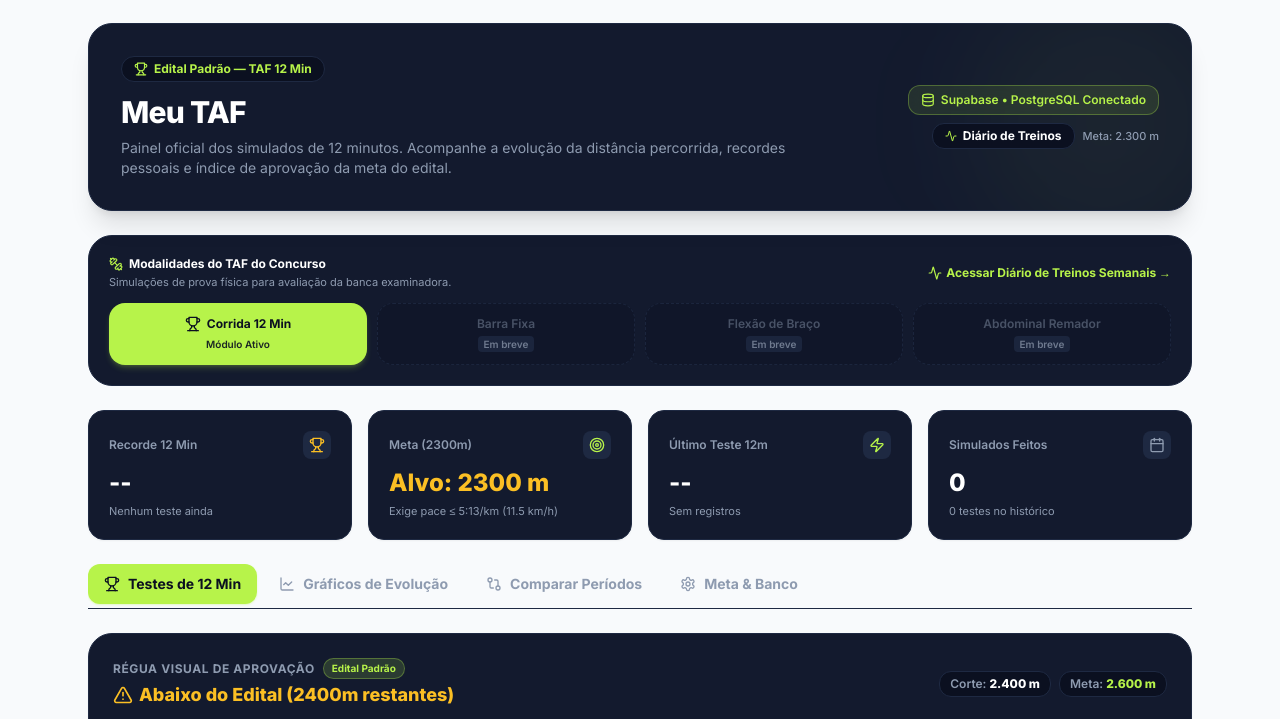
Test case: MeuTafPage - Fase F (Comparador de Períodos & Configuração de Meta / Backup) › Configuração de Meta & Central de Backup › permite disparar a exportação de Backup JSON e planilhas CSV
Click the button "Meta & Banco".
click(739, 584)  # box [664,564,814,604]
(page scrolled)
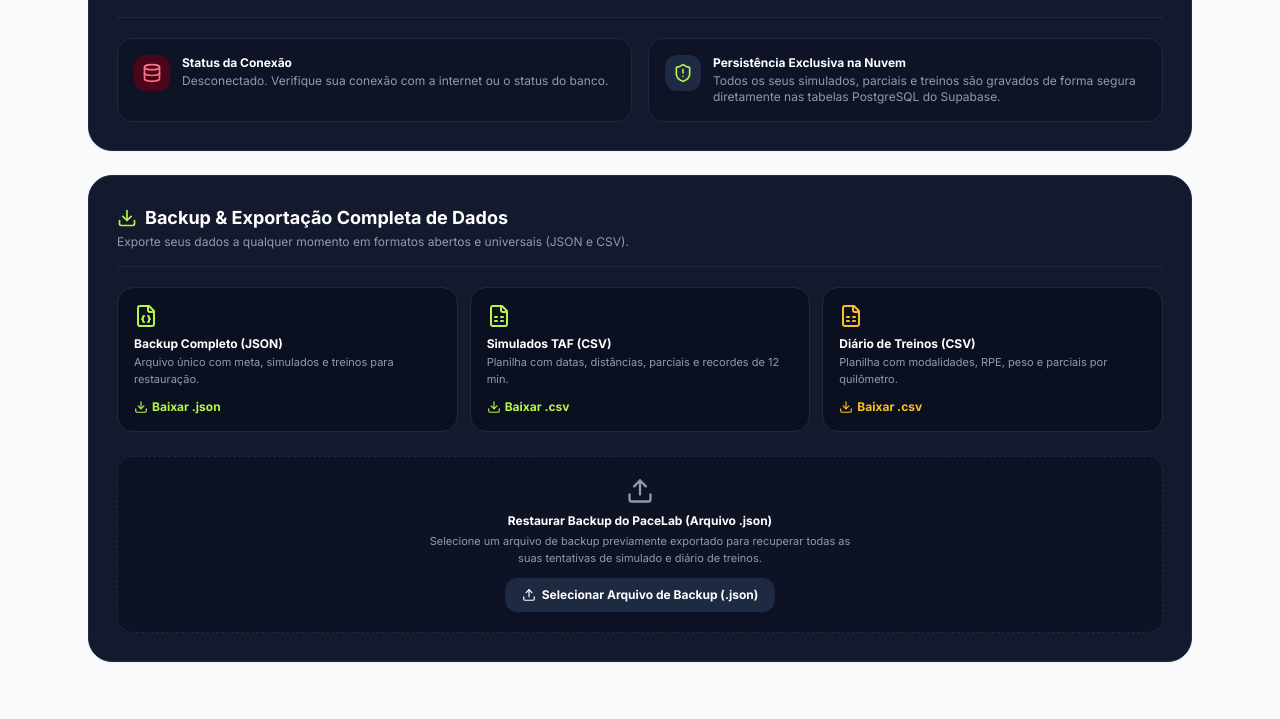
Click the button "Backup Completo (JSON)".
click(287, 360)  # box [117,287,458,432]
(page scrolled)
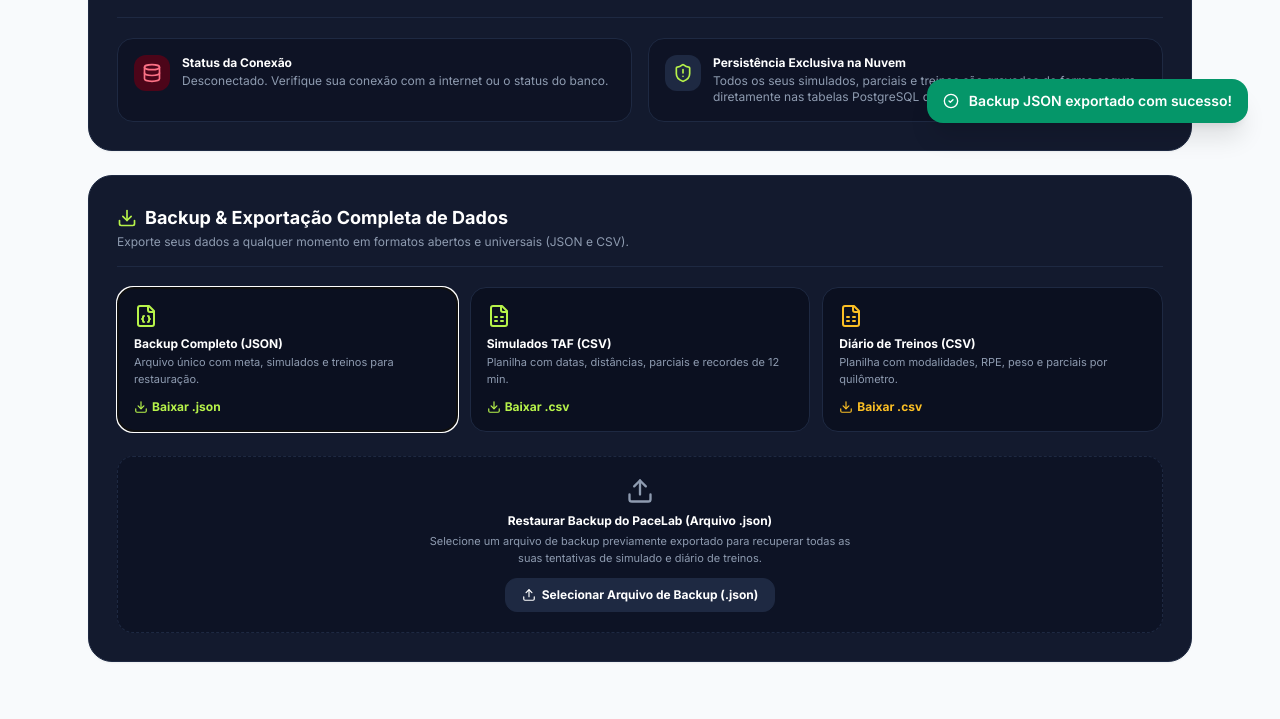
Expected: the element with test id "toast-notification" shows "Backup JSON exportado com sucesso", [969,92,1232,109]
Click the button "Simulados TAF (CSV)".
click(640, 360)  # box [470,287,810,432]
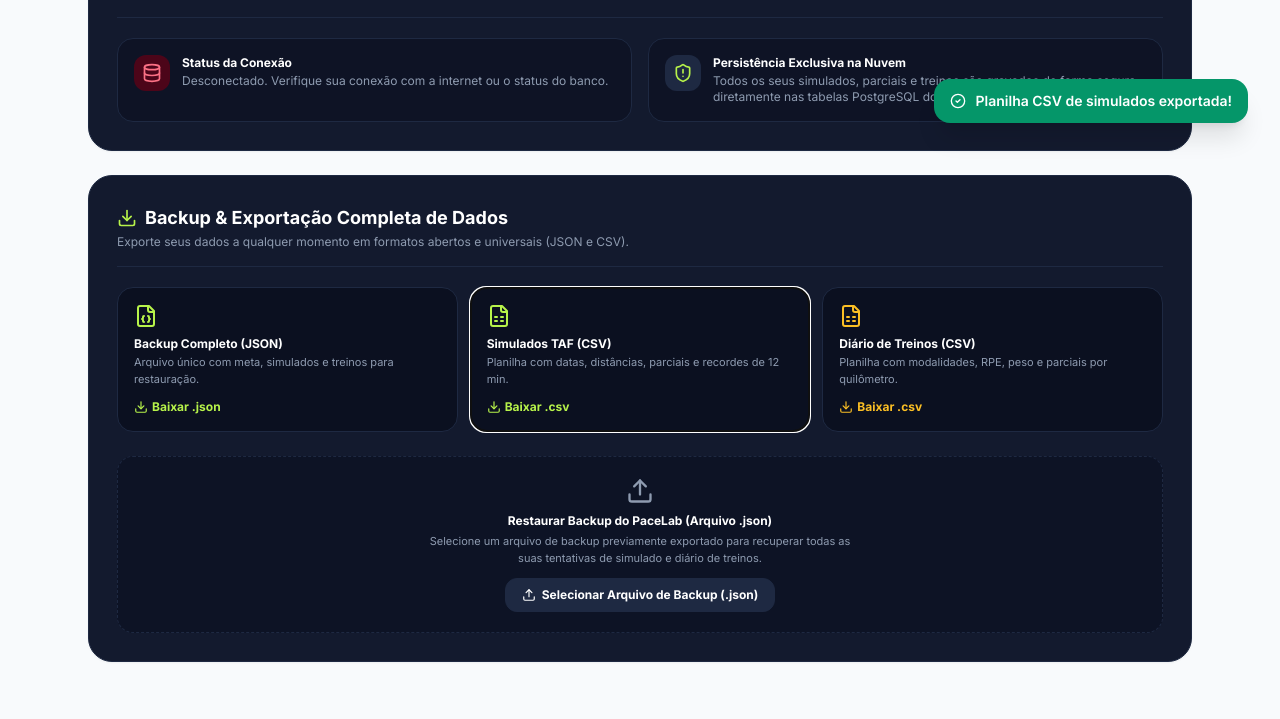
Expected: the element with test id "toast-notification" shows "Planilha CSV de simulados exportada", [976,92,1232,109]
Click the button "Diário de Treinos (CSV)".
click(993, 360)  # box [822,287,1163,432]
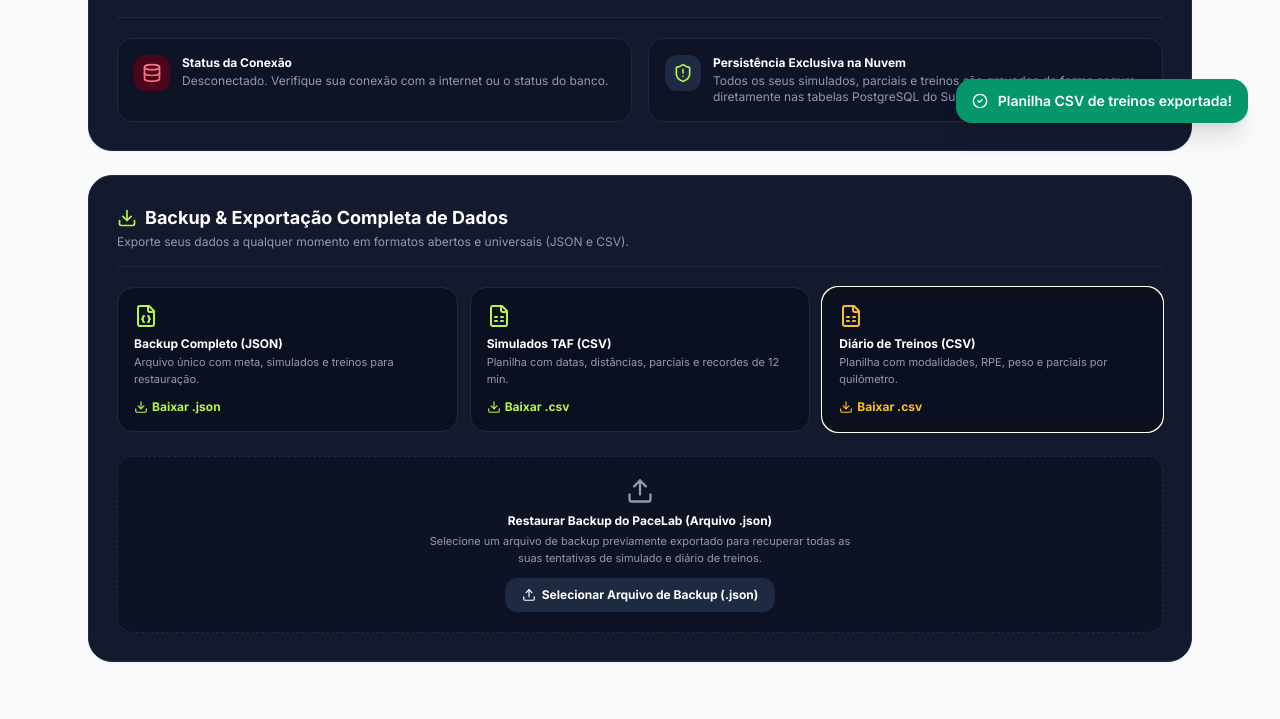
Expected: the element with test id "toast-notification" shows "Planilha CSV de treinos exportada", [998,92,1232,109]
